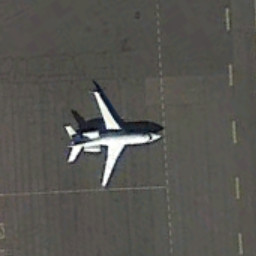Airplane: (53, 85, 169, 194)
